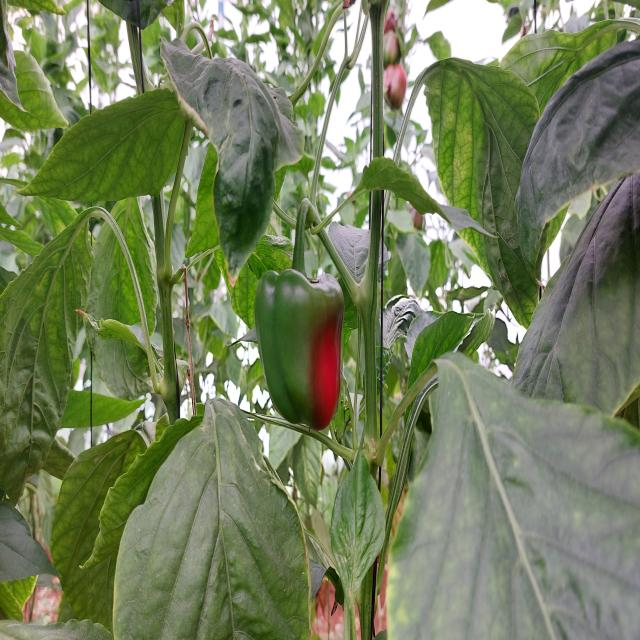BrownishRed--Can-be-Harvested: (251, 267, 349, 432)
